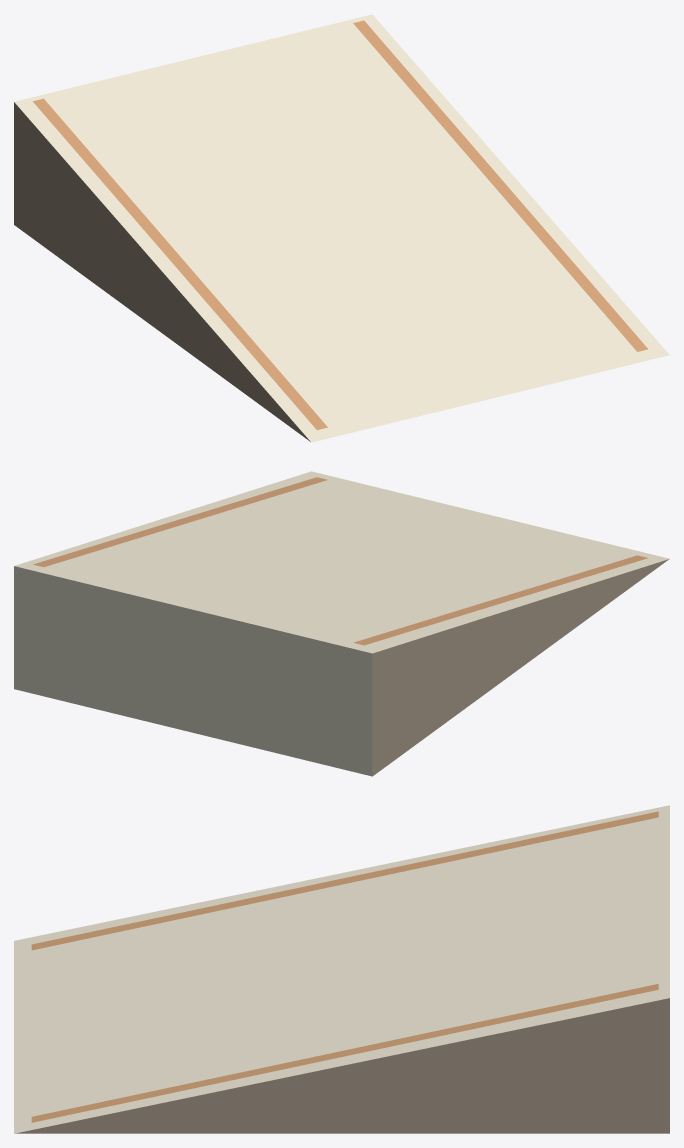
Rendered from ramp.glb.
3 views of the same model, one above another, from view 1: azimuth 30°, elevation 25°; view 2: azimuth 150°, elevation 25°; view 3: azimuth 270°, elevation 25° (orthographic). The views are drawn at different scales.
Visible parts, largest first — view 1: ramp; view 2: ramp; view 3: ramp.
Boxes of the visible parts, x1,y1,x2,y2 form: ramp: (14,14,669,442); ramp: (14,471,669,776); ramp: (14,805,669,1133).
Size of the model in its own units: 3.2 by 1.06 by 4.6.
